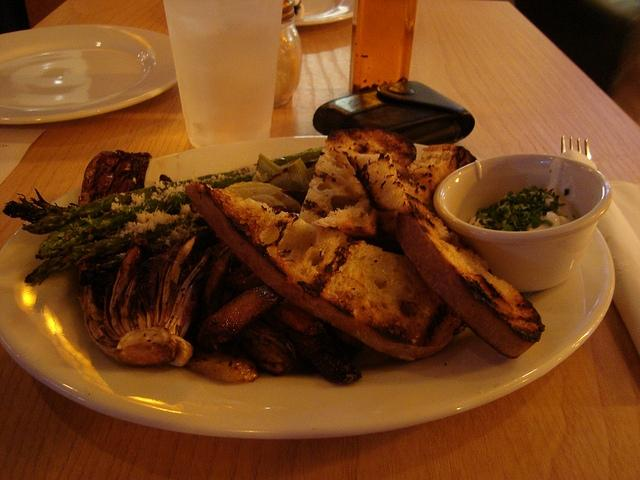asparagus: (36, 160, 319, 260), (3, 146, 320, 234), (24, 232, 134, 286)
